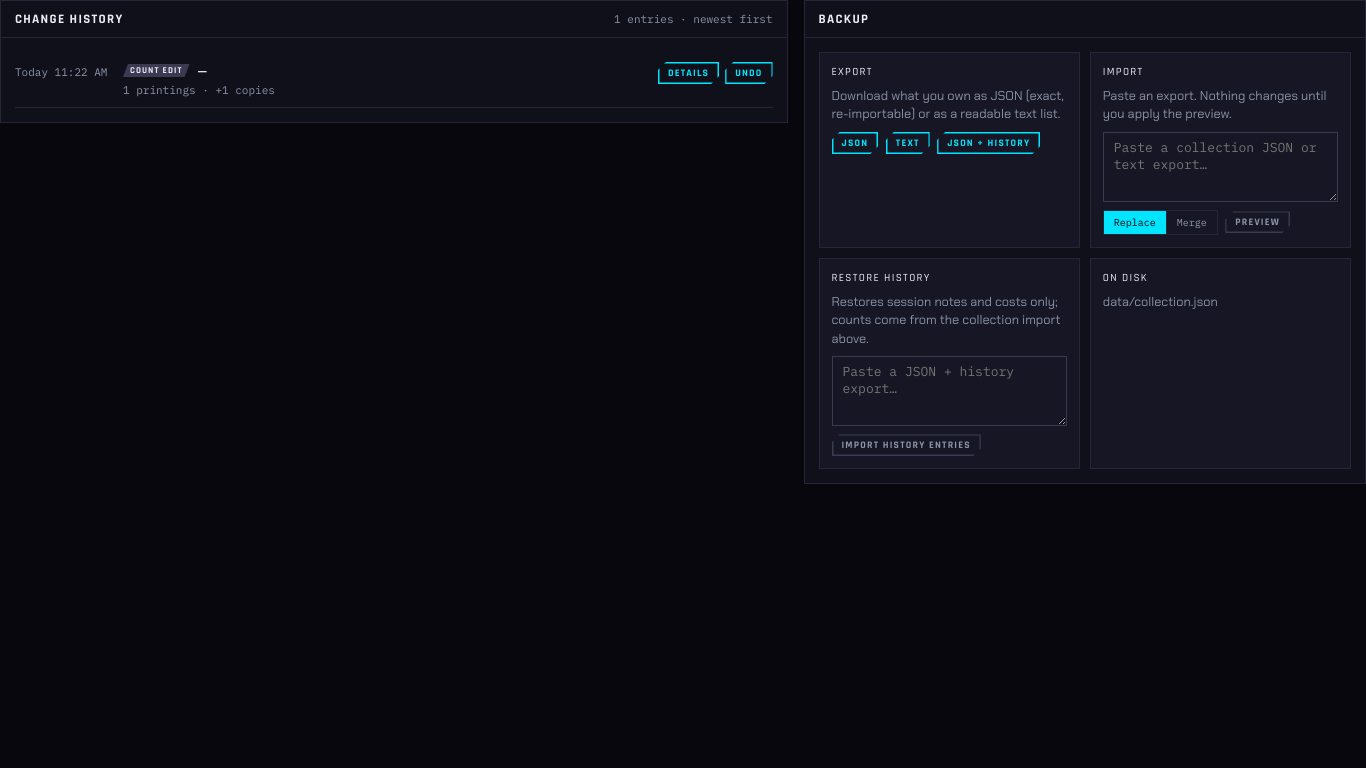
Test: backup › shows the error and keeps data on a bad import
Type "garbage" into the text box with test id "import-input".
click(1220, 167); type("garbage")  # box 1103,132 -> 1338,202
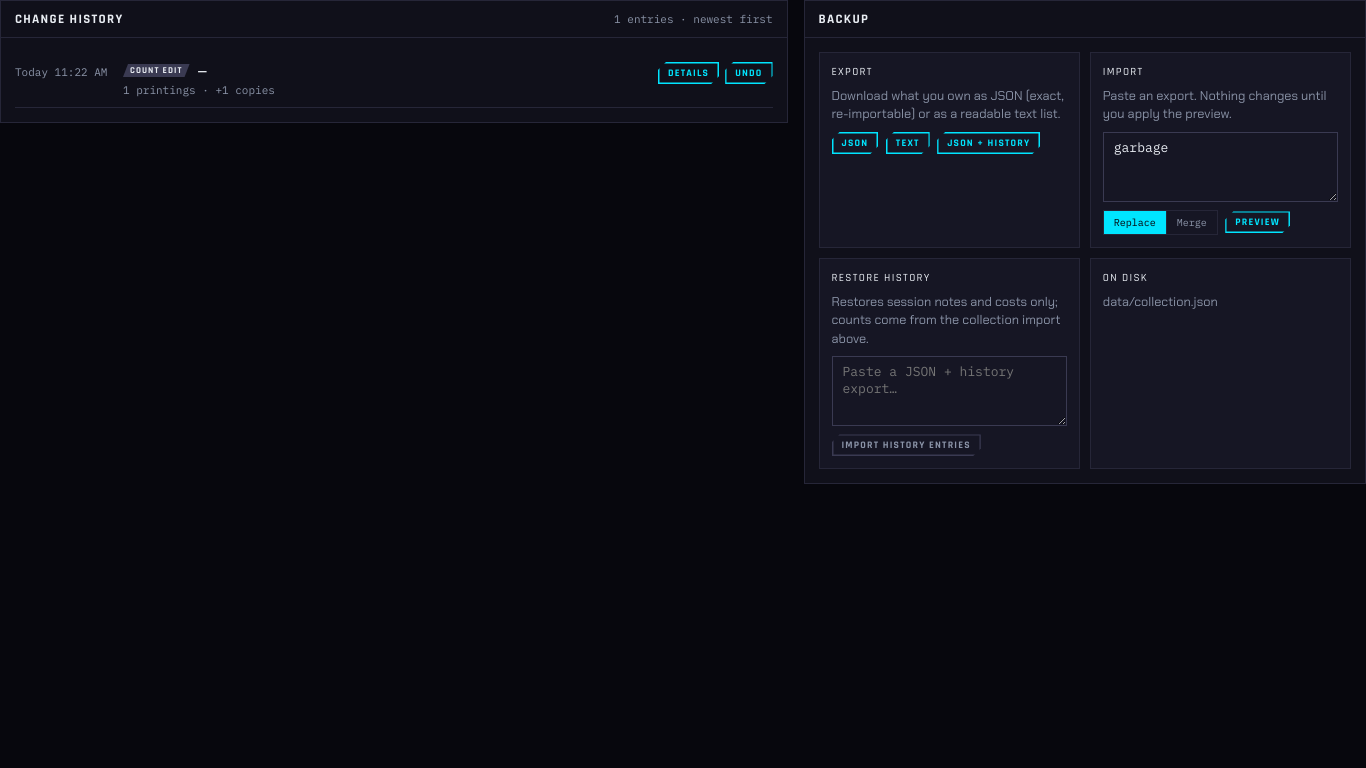
Click the button with test id "import-submit".
click(1258, 222)  # box 1225,212 -> 1290,234
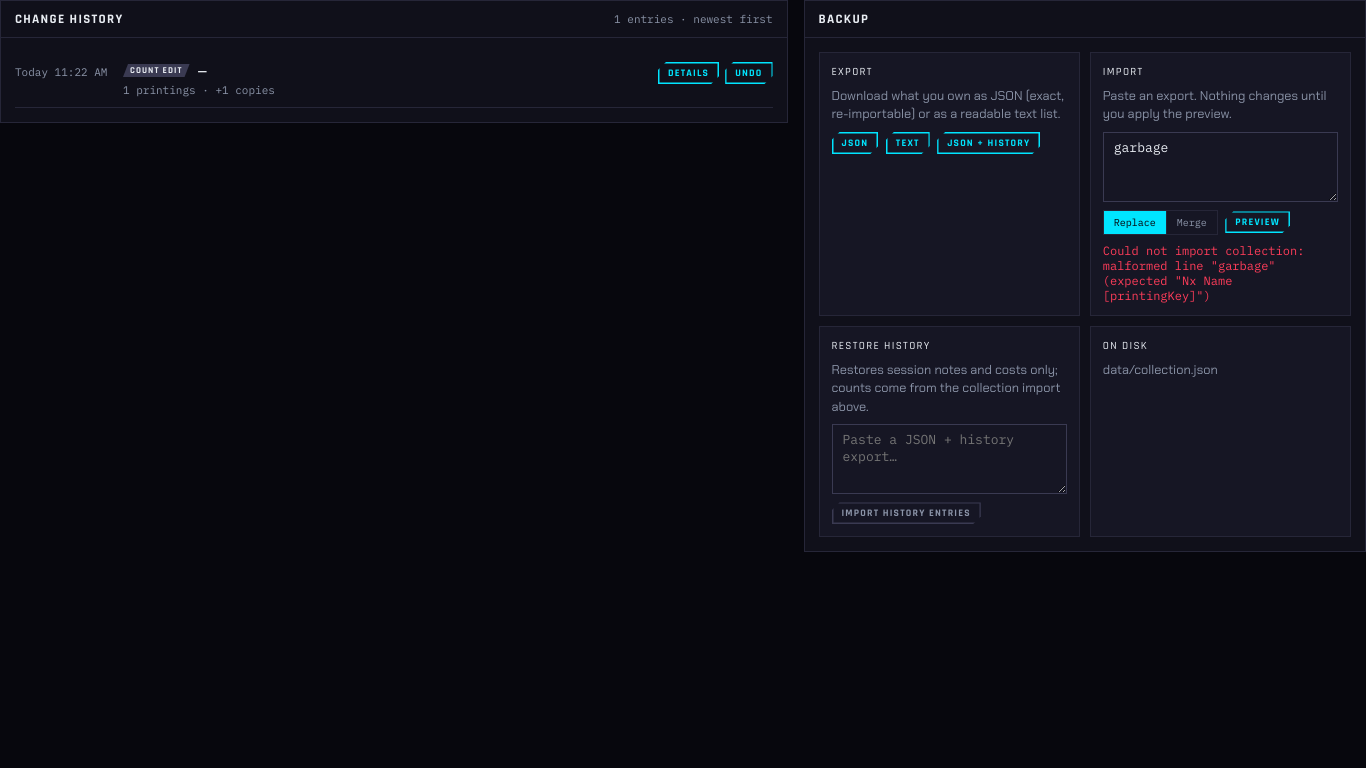
Check: the message with test id "import-error" shows "Could not import", box 1103,243 -> 1304,303
